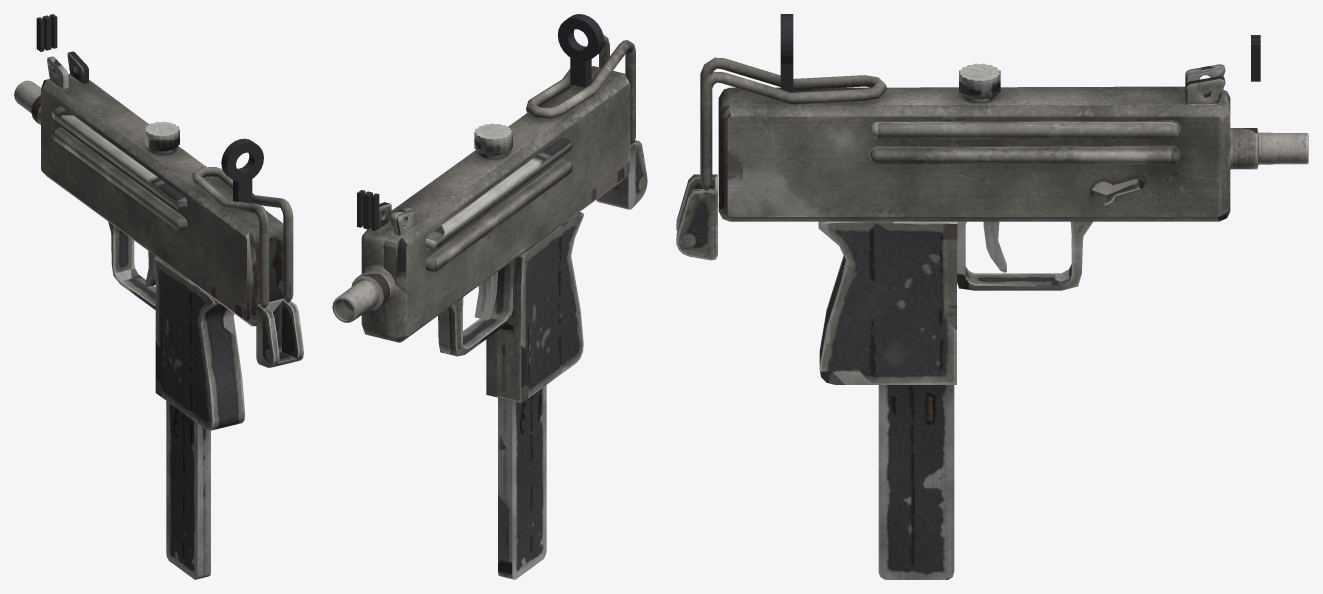
The model's file is smg.glb.
3 renders of one model, left to right at view 1: azimuth 30°, elevation 25°; view 2: azimuth 150°, elevation 25°; view 3: azimuth 270°, elevation 25°, orthographic. The views are drawn at different scales.
Parts seen in each view (by area): view 1: mac10, mac10magazine_low, mac10derriere_low, rear_ring, mac10rond_low, rear_stem; view 2: mac10, mac10magazine_low, mac10derriere_low, rear_ring, mac10rond_low, mac10trigger_low, rear_stem; view 3: mac10, mac10magazine_low, mac10derriere_low, mac10rond_low, mac10bt_low.
Boxes of the visible parts, <box> form: mac10: <box>14,51,284,430</box>; mac10magazine_low: <box>166,401,210,579</box>; mac10derriere_low: <box>192,167,303,367</box>; rear_ring: <box>221,138,263,182</box>; mac10rond_low: <box>144,121,179,153</box>; rear_stem: <box>233,177,252,203</box>; mac10: <box>332,66,630,403</box>; mac10magazine_low: <box>498,385,546,579</box>; mac10derriere_low: <box>526,35,647,209</box>; rear_ring: <box>558,14,604,61</box>; mac10rond_low: <box>474,123,512,158</box>; mac10trigger_low: <box>474,272,497,320</box>; rear_stem: <box>570,55,591,87</box>; mac10: <box>718,64,1308,384</box>; mac10magazine_low: <box>878,385,954,579</box>; mac10derriere_low: <box>676,57,886,260</box>; mac10rond_low: <box>959,63,1000,102</box>; mac10bt_low: <box>1090,177,1144,205</box>.
Size of the model in its own units: 0.0329 by 0.2635 by 0.2698.
2 materials, 1 textured.
